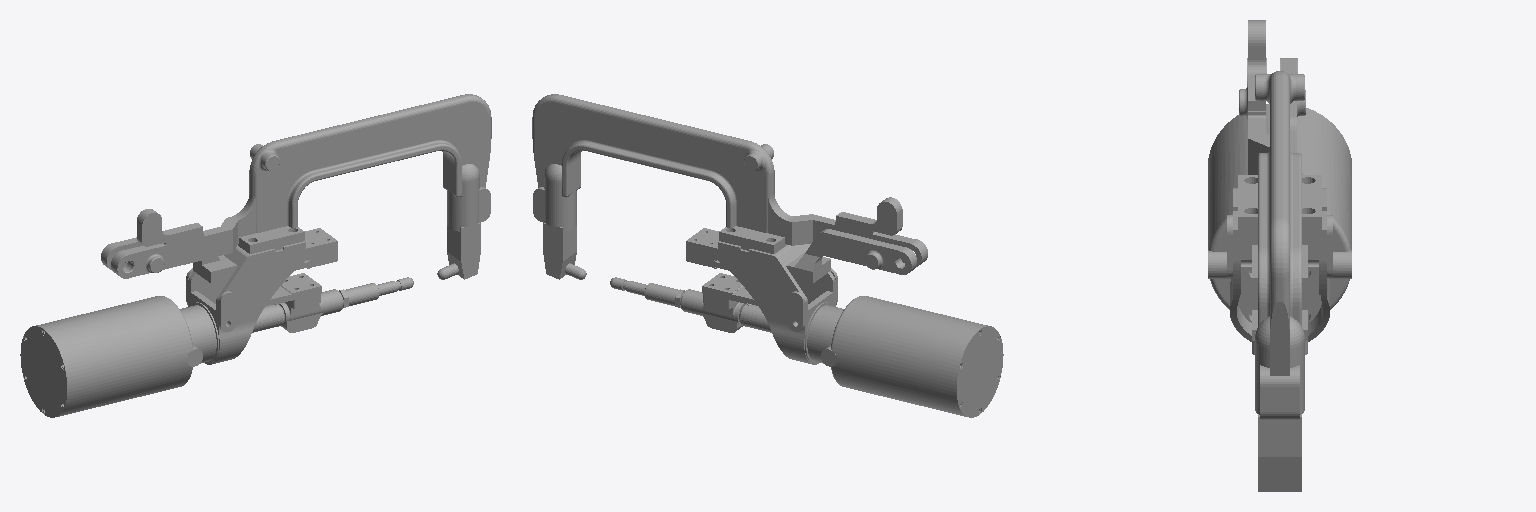
robot.urdf — robot:
<robot name="">
	<link name="base_link">
		<inertial>
			<origin rpy="0.00000 -0.00000 0.00000" xyz="0.00000 0.00000 0.00000" />
			<mass value="1.00000" />
			<inertia ixx="0.05644" ixy="0" ixz="0" iyy="0.09146" iyz="0" izz="0.13601" />
		</inertial>
		<visual>
			<origin rpy="0.00000 -0.00000 0.00000" xyz="0.00000 0.00000 0.00000" />
			<geometry>
				<mesh filename="rlbotics\envs\models\robots/abb/irb6600/meshes/irb6640/visual/base_link.stl" scale="1.00000 1.00000 1.00000" />
			</geometry>
			<material name="0">
				<color rgba="0.19608 0.18824 0.18824 1.00000" />
			</material>
		</visual>
		<collision>
			<origin rpy="0.00000 -0.00000 0.00000" xyz="0.00000 0.00000 0.00000" />
			<geometry>
				<mesh filename="rlbotics\envs\models\robots/abb/irb6600/meshes/irb6640/collision/base_link.stl" scale="1.00000 1.00000 1.00000" />
			</geometry>
		</collision>
	</link>
	<link name="link_1">
		<inertial>
			<origin rpy="0.00000 -0.00000 0.00000" xyz="0.00000 0.00000 0.00000" />
			<mass value="1.00000" />
			<inertia ixx="0.12168" ixy="0" ixz="0" iyy="0.14154" iyz="0" izz="0.14985" />
		</inertial>
		<visual>
			<origin rpy="0.00000 -0.00000 0.00000" xyz="0.00000 0.00000 0.00000" />
			<geometry>
				<mesh filename="rlbotics\envs\models\robots/abb/irb6600/meshes/irb6640/visual/link_1.stl" scale="1.00000 1.00000 1.00000" />
			</geometry>
			<material name="1">
				<color rgba="1.00000 0.43000 0.00000 1.00000" />
			</material>
		</visual>
		<collision>
			<origin rpy="0.00000 -0.00000 0.00000" xyz="0.00000 0.00000 0.00000" />
			<geometry>
				<mesh filename="rlbotics\envs\models\robots/abb/irb6600/meshes/irb6640/collision/link_1.stl" scale="1.00000 1.00000 1.00000" />
			</geometry>
		</collision>
	</link>
	<link name="link_2">
		<inertial>
			<origin rpy="0.00000 -0.00000 0.00000" xyz="0.00000 0.00000 0.00000" />
			<mass value="1.00000" />
			<inertia ixx="0.19273" ixy="0" ixz="0" iyy="0.19807" iyz="0" izz="0.04231" />
		</inertial>
		<visual>
			<origin rpy="0.00000 -0.00000 0.00000" xyz="0.00000 0.00000 0.00000" />
			<geometry>
				<mesh filename="rlbotics\envs\models\robots/abb/irb6600/meshes/irb6640/visual/link_2.stl" scale="1.00000 1.00000 1.00000" />
			</geometry>
			<material name="2">
				<color rgba="1.00000 0.43000 0.00000 1.00000" />
			</material>
		</visual>
		<collision>
			<origin rpy="0.00000 -0.00000 0.00000" xyz="0.00000 0.00000 0.00000" />
			<geometry>
				<mesh filename="rlbotics\envs\models\robots/abb/irb6600/meshes/irb6640/collision/link_2.stl" scale="1.00000 1.00000 1.00000" />
			</geometry>
		</collision>
	</link>
	<link name="link_3">
		<inertial>
			<origin rpy="0.00000 -0.00000 0.00000" xyz="0.00000 0.00000 0.00000" />
			<mass value="1.00000" />
			<inertia ixx="0.05700" ixy="0" ixz="0" iyy="0.05147" iyz="0" izz="0.05016" />
		</inertial>
		<visual>
			<origin rpy="0.00000 -0.00000 0.00000" xyz="0.00000 0.00000 0.00000" />
			<geometry>
				<mesh filename="rlbotics\envs\models\robots/abb/irb6600/meshes/irb6640/visual/link_3.stl" scale="1.00000 1.00000 1.00000" />
			</geometry>
			<material name="3">
				<color rgba="1.00000 0.43000 0.00000 1.00000" />
			</material>
		</visual>
		<collision>
			<origin rpy="0.00000 -0.00000 0.00000" xyz="0.00000 0.00000 0.00000" />
			<geometry>
				<mesh filename="rlbotics\envs\models\robots/abb/irb6600/meshes/irb6640/collision/link_3.stl" scale="1.00000 1.00000 1.00000" />
			</geometry>
		</collision>
	</link>
	<link name="link_4">
		<inertial>
			<origin rpy="0.00000 -0.00000 0.00000" xyz="0.00000 0.00000 0.00000" />
			<mass value="1.00000" />
			<inertia ixx="0.01678" ixy="0" ixz="0" iyy="0.27861" iyz="0" izz="0.28296" />
		</inertial>
		<visual>
			<origin rpy="0.00000 -0.00000 0.00000" xyz="0.00000 0.00000 0.00000" />
			<geometry>
				<mesh filename="rlbotics\envs\models\robots/abb/irb6600/meshes/irb6640/visual/link_4.stl" scale="1.00000 1.00000 1.00000" />
			</geometry>
			<material name="4">
				<color rgba="1.00000 0.43000 0.00000 1.00000" />
			</material>
		</visual>
		<collision>
			<origin rpy="0.00000 -0.00000 0.00000" xyz="0.00000 0.00000 0.00000" />
			<geometry>
				<mesh filename="rlbotics\envs\models\robots/abb/irb6600/meshes/irb6640/collision/link_4.stl" scale="1.00000 1.00000 1.00000" />
			</geometry>
		</collision>
	</link>
	<link name="link_5">
		<inertial>
			<origin rpy="0.00000 -0.00000 0.00000" xyz="0.00000 0.00000 0.00000" />
			<mass value="1.00000" />
			<inertia ixx="0.00698" ixy="0" ixz="0" iyy="0.01161" iyz="0" izz="0.01117" />
		</inertial>
		<visual>
			<origin rpy="0.00000 -0.00000 0.00000" xyz="0.00000 0.00000 0.00000" />
			<geometry>
				<mesh filename="rlbotics\envs\models\robots/abb/irb6600/meshes/irb6640/visual/link_5.stl" scale="1.00000 1.00000 1.00000" />
			</geometry>
			<material name="5">
				<color rgba="0.75294 0.75294 0.75294 1.00000" />
			</material>
		</visual>
		<collision>
			<origin rpy="0.00000 -0.00000 0.00000" xyz="0.00000 0.00000 0.00000" />
			<geometry>
				<mesh filename="rlbotics\envs\models\robots/abb/irb6600/meshes/irb6640/collision/link_5.stl" scale="1.00000 1.00000 1.00000" />
			</geometry>
		</collision>
	</link>
	<link name="link_6">
		<inertial>
			<origin rpy="0.00000 -0.00000 0.00000" xyz="0.00000 0.00000 0.00000" />
			<mass value="1.00000" />
			<inertia ixx="0.00719" ixy="0" ixz="0" iyy="0.00381" iyz="0" izz="0.00369" />
		</inertial>
		<visual>
			<origin rpy="0.00000 -0.00000 0.00000" xyz="0.00000 0.00000 0.00000" />
			<geometry>
				<mesh filename="rlbotics\envs\models\robots/abb/irb6600/meshes/irb6640/visual/link_6.stl" scale="1.00000 1.00000 1.00000" />
			</geometry>
			<material name="6">
				<color rgba="0.75294 0.75294 0.75294 1.00000" />
			</material>
		</visual>
		<collision>
			<origin rpy="0.00000 -0.00000 0.00000" xyz="0.00000 0.00000 0.00000" />
			<geometry>
				<mesh filename="rlbotics\envs\models\robots/abb/irb6600/meshes/irb6640/collision/link_6.stl" scale="1.00000 1.00000 1.00000" />
			</geometry>
		</collision>
	</link>
	<link name="tool0">
		<inertial>
			<origin rpy="0.00000 -0.00000 0.00000" xyz="0.00000 0.00000 0.00000" />
			<mass value="1.00000" />
			<inertia ixx="0.00000" ixy="0" ixz="0" iyy="0.00000" iyz="0" izz="0.00000" />
		</inertial>
	</link>
	<link name="link_cylinder">
		<inertial>
			<origin rpy="0.00000 -0.00000 0.00000" xyz="0.00000 0.00000 0.00000" />
			<mass value="1.00000" />
			<inertia ixx="0.03211" ixy="0" ixz="0" iyy="0.04966" iyz="0" izz="0.04355" />
		</inertial>
		<visual>
			<origin rpy="0.00000 -0.00000 0.00000" xyz="0.00000 0.00000 0.00000" />
			<geometry>
				<mesh filename="rlbotics\envs\models\robots/abb/irb6600/meshes/irb6640/visual/cylinder.stl" scale="1.00000 1.00000 1.00000" />
			</geometry>
			<material name="7">
				<color rgba="1.00000 0.43000 0.00000 1.00000" />
			</material>
		</visual>
		<collision>
			<origin rpy="0.00000 -0.00000 0.00000" xyz="0.00000 0.00000 0.00000" />
			<geometry>
				<mesh filename="rlbotics\envs\models\robots/abb/irb6600/meshes/irb6640/collision/cylinder.stl" scale="1.00000 1.00000 1.00000" />
			</geometry>
		</collision>
	</link>
	<link name="link_piston">
		<inertial>
			<origin rpy="0.00000 -0.00000 0.00000" xyz="0.00000 0.00000 0.00000" />
			<mass value="1.00000" />
			<inertia ixx="0.00136" ixy="0" ixz="0" iyy="0.03609" iyz="0" izz="0.03664" />
		</inertial>
		<visual>
			<origin rpy="0.00000 -0.00000 0.00000" xyz="0.00000 0.00000 0.00000" />
			<geometry>
				<mesh filename="rlbotics\envs\models\robots/abb/irb6600/meshes/irb6640/visual/piston.stl" scale="1.00000 1.00000 1.00000" />
			</geometry>
			<material name="8">
				<color rgba="0.75294 0.75294 0.75294 1.00000" />
			</material>
		</visual>
		<collision>
			<origin rpy="0.00000 -0.00000 0.00000" xyz="0.00000 0.00000 0.00000" />
			<geometry>
				<mesh filename="rlbotics\envs\models\robots/abb/irb6600/meshes/irb6640/collision/piston.stl" scale="1.00000 1.00000 1.00000" />
			</geometry>
		</collision>
	</link>
	<link name="base">
		<inertial>
			<origin rpy="0.00000 -0.00000 0.00000" xyz="0.00000 0.00000 0.00000" />
			<mass value="1.00000" />
			<inertia ixx="0.00000" ixy="0" ixz="0" iyy="0.00000" iyz="0" izz="0.00000" />
		</inertial>
	</link>
	<link name="root">
		<inertial>
			<origin rpy="0.00000 -0.00000 0.00000" xyz="0.50570 -0.00054 0.18351" />
			<mass value="2.00000" />
			<inertia ixx="0.02909" ixy="0" ixz="0" iyy="0.13991" iyz="0" izz="0.11897" />
		</inertial>
		<visual>
			<origin rpy="0.00000 -0.00000 0.00000" xyz="0.39949 0.00000 0.14487" />
			<geometry>
				<mesh filename="rlbotics\envs\models\end_effectors/welding/spot_welding_gun/meshes/stl/RFC-22-G01 v2.stl" scale="0.00116 0.00116 0.00116" />
			</geometry>
			<material name="9">
				<color rgba="0.67059 0.67059 0.67059 1.00000" />
			</material>
		</visual>
		<collision>
			<origin rpy="0.00000 -0.00000 0.00000" xyz="0.39946 -0.00043 0.14496" />
			<geometry>
				<mesh filename="rlbotics\envs\models\end_effectors/welding/spot_welding_gun/meshes/stl/RFC-22-G01 v2.001.stl" scale="0.78991 0.78991 0.78991" />
			</geometry>
		</collision>
	</link>
	<link name="ee_joint_arm">
		<inertial>
			<origin rpy="0.00000 -0.00000 0.00000" xyz="0.00000 0.00000 0.00000" />
			<mass value="0.00100" />
			<inertia ixx="0.00000" ixy="0" ixz="0" iyy="0.00000" iyz="0" izz="0.00000" />
		</inertial>
	</link>
	<link name="nozzle_tip">
		<inertial>
			<origin rpy="0.00000 -0.00000 0.00000" xyz="0.00000 0.00000 0.00000" />
			<mass value="0.00100" />
			<inertia ixx="0.00000" ixy="0" ixz="0" iyy="0.00000" iyz="0" izz="0.00000" />
		</inertial>
	</link>
	<joint name="joint_1" type="revolute">
		<parent link="base_link" />
		<child link="link_1" />
		<dynamics damping="0.0" friction="0.0" />
		<origin rpy="0.00000 -0.00000 0.00000" xyz="0.00000 0.00000 0.22700" />
		<axis xyz="0.00000 0.00000 1.00000" />
	<limit effort="0.0" lower="-2.967" upper="2.967" velocity="1.7453" /></joint>
	<joint name="joint_2" type="revolute">
		<parent link="link_1" />
		<child link="link_2" />
		<dynamics damping="0.0" friction="0.0" />
		<origin rpy="0.00000 -0.00000 0.00000" xyz="0.32200 0.03000 0.55100" />
		<axis xyz="0.00000 1.00000 0.00000" />
	<limit effort="0.0" lower="-1.134" upper="1.4855" velocity="1.5707" /></joint>
	<joint name="joint_3" type="revolute">
		<parent link="link_2" />
		<child link="link_3" />
		<dynamics damping="0.0" friction="0.0" />
		<origin rpy="0.00000 -0.00000 0.00000" xyz="0.00000 -0.20000 1.07000" />
		<axis xyz="0.00000 1.00000 0.00000" />
	<limit effort="0.0" lower="-3.142" upper="1.222" velocity="1.5707" /></joint>
	<joint name="joint_4" type="revolute">
		<parent link="link_3" />
		<child link="link_4" />
		<dynamics damping="0.0" friction="0.0" />
		<origin rpy="0.00000 -0.00000 0.00000" xyz="-0.27500 0.18100 0.20000" />
		<axis xyz="1.00000 0.00000 0.00000" />
	<limit effort="0.0" lower="-5.236" upper="5.236" velocity="2.9671" /></joint>
	<joint name="joint_5" type="revolute">
		<parent link="link_4" />
		<child link="link_5" />
		<dynamics damping="0.0" friction="0.0" />
		<origin rpy="0.00000 -0.00000 0.00000" xyz="1.67000 0.00000 0.00000" />
		<axis xyz="0.00000 1.00000 0.00000" />
	<limit effort="0.0" lower="-2.094" upper="2.094" velocity="2.4435" /></joint>
	<joint name="joint_6" type="revolute">
		<parent link="link_5" />
		<child link="link_6" />
		<dynamics damping="0.0" friction="0.0" />
		<origin rpy="0.00000 -0.00000 0.00000" xyz="0.15300 0.00000 0.00000" />
		<axis xyz="1.00000 0.00000 0.00000" />
	<limit effort="0.0" lower="-6.283" upper="6.283" velocity="3.3161" /></joint>
	<joint name="joint_6-tool0" type="fixed">
		<parent link="link_6" />
		<child link="tool0" />
		<dynamics damping="1.0" friction="0.0001" />
		<origin rpy="0.00000 1.57080 -0.00000" xyz="0.05500 0.00000 0.00000" />
		<axis xyz="0.00000 0.00000 0.00000" />
	</joint>
	<joint name="joint_cylinder" type="fixed">
		<parent link="link_1" />
		<child link="link_cylinder" />
		<dynamics damping="1.0" friction="0.0001" />
		<origin rpy="0.00000 -0.17000 0.00000" xyz="-0.36500 -0.18950 0.40500" />
		<axis xyz="0.00000 0.00000 0.00000" />
	</joint>
	<joint name="joint_piston" type="fixed">
		<parent link="link_cylinder" />
		<child link="link_piston" />
		<dynamics damping="1.0" friction="0.0001" />
		<origin rpy="0.00000 -0.00000 0.00000" xyz="0.47500 0.00000 0.00000" />
		<axis xyz="0.00000 0.00000 0.00000" />
	</joint>
	<joint name="base_link-base" type="fixed">
		<parent link="base_link" />
		<child link="base" />
		<dynamics damping="1.0" friction="0.0001" />
		<origin rpy="0.00000 -0.00000 0.00000" xyz="0.00000 0.00000 0.00000" />
		<axis xyz="0.00000 0.00000 0.00000" />
	</joint>
	<joint name="joint_dummy1" type="fixed">
		<parent link="link_6" />
		<child link="root" />
		<dynamics damping="1.0" friction="0.0001" />
		<origin rpy="0.00000 0.00000 0.00000" xyz="0.00000 0.00000 0.00000" />
		<axis xyz="0.00000 0.00000 1.00000" />
	</joint>
	<joint name="ee_joint_arm" type="fixed">
		<parent link="root" />
		<child link="ee_joint_arm" />
		<dynamics damping="1.0" friction="0.0001" />
		<origin rpy="0.00000 1.57080 -0.00000" xyz="-0.00372 -0.00266 0.00071" />
		<axis xyz="0.00000 0.00000 0.00000" />
	</joint>
	<joint name="nozzle_tip" type="fixed">
		<parent link="root" />
		<child link="nozzle_tip" />
		<dynamics damping="1.0" friction="0.0001" />
		<origin rpy="0.00000 1.57080 -0.00000" xyz="0.67936 0.00000 0.00043" />
		<axis xyz="0.00000 0.00000 0.00000" />
	</joint>
</robot>

--- What the picture shows (computed from the rendered views, not written in the file) ---
3 views of the same robot in one strip: view 1: azimuth 30°, elevation 25°; view 2: azimuth 150°, elevation 25°; view 3: azimuth 270°, elevation 25° (orthographic).
Robot: robot — 14 links, 13 joints (6 revolute, 7 fixed); root link base_link; default pose: all joints at 0.
Visible links, largest first — view 1: root; view 2: root; view 3: root.
Link boxes in pixels (x1=…): root: x1=20, y1=94, x2=491, y2=417; root: x1=532, y1=94, x2=1003, y2=417; root: x1=1208, y1=20, x2=1351, y2=491.
Bounding box of the posed robot: 0.8271 × 0.1508 × 0.3828 m (x, y, z).
1 mesh visuals loaded from 10 distinct referenced files (1 binary STL); not drawn: 9 (reference not matched to a file when rendering).